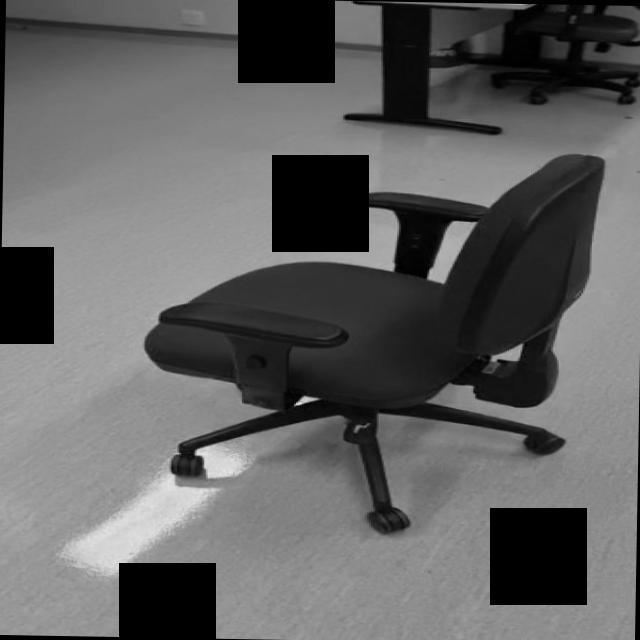chair: (140, 147, 604, 535)
